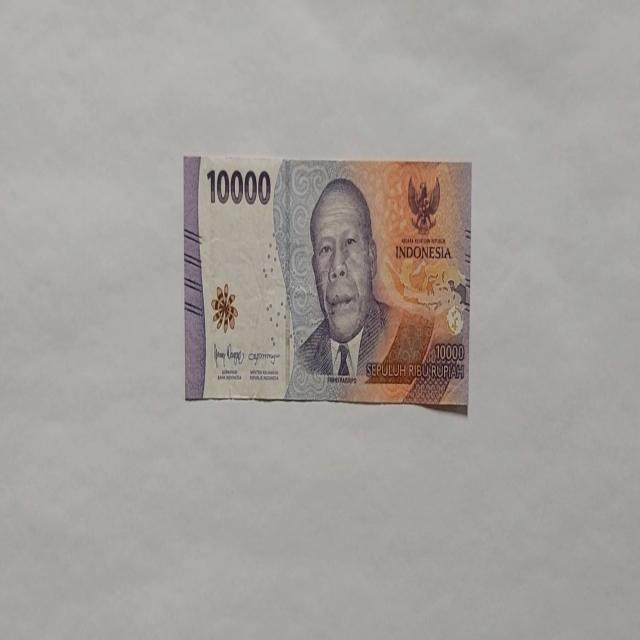sepuluh ribu rupiah: (182, 153, 472, 408)
